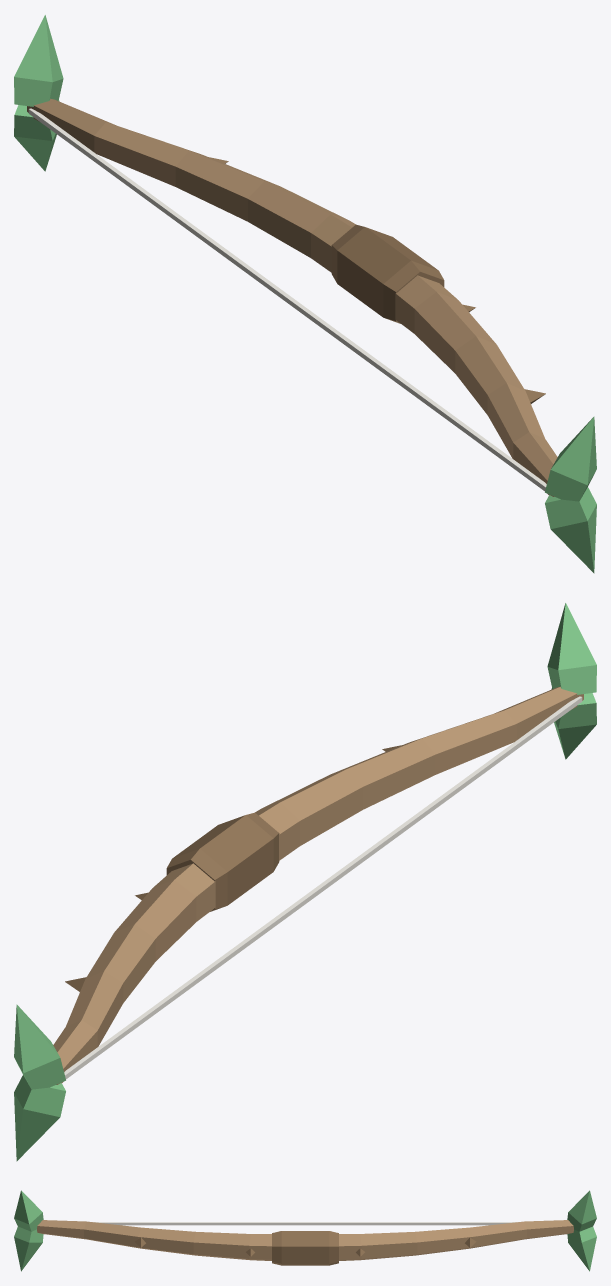
The model's file is heartwood.glb.
3 renders of one model, top to bottom at view 1: azimuth 30°, elevation 25°; view 2: azimuth 150°, elevation 25°; view 3: azimuth 270°, elevation 25°, orthographic. The views are drawn at different scales.
Visible parts, largest first — view 1: heartwood; view 2: heartwood; view 3: heartwood.
Part boxes in pixels (<box>): heartwood: <box>14,15,596,573</box>; heartwood: <box>14,603,596,1161</box>; heartwood: <box>14,1190,596,1271</box>.
Size of the model in its own units: 0.1806 by 0.1891 by 1.22.
